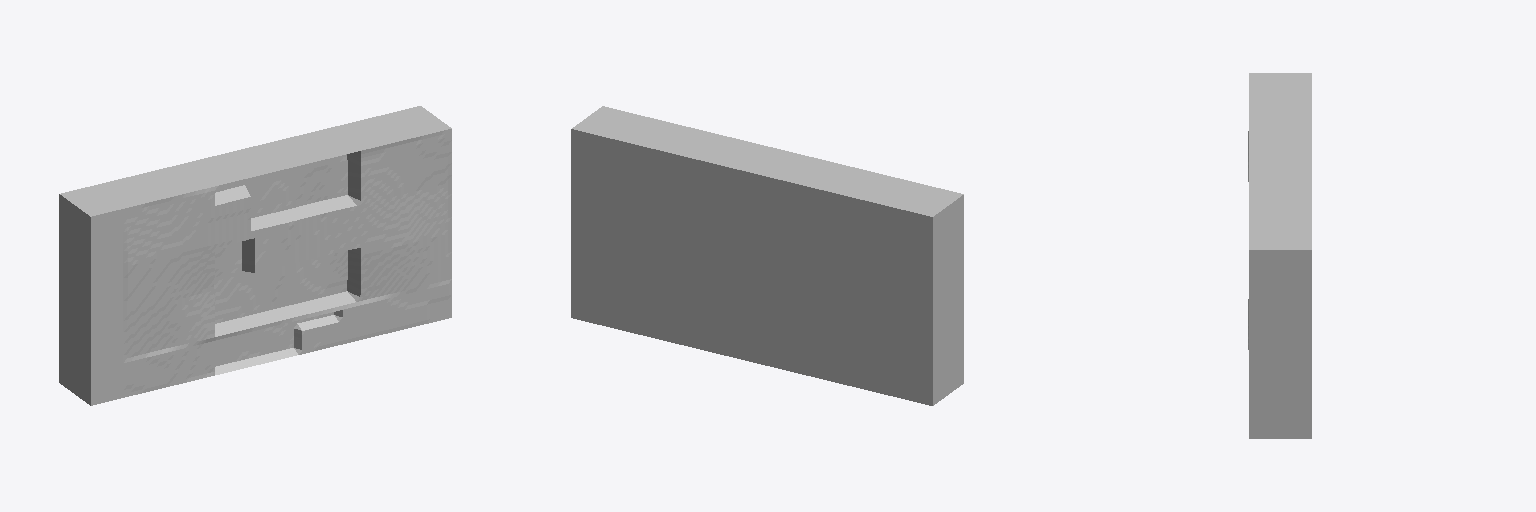
The model's file is rectangular_prism_bumps_0_9.obj.
3 views of the same model, side by side, from view 1: azimuth 30°, elevation 25°; view 2: azimuth 150°, elevation 25°; view 3: azimuth 270°, elevation 25° (orthographic).
Size of the model in its own units: 10 by 5 by 1.52.